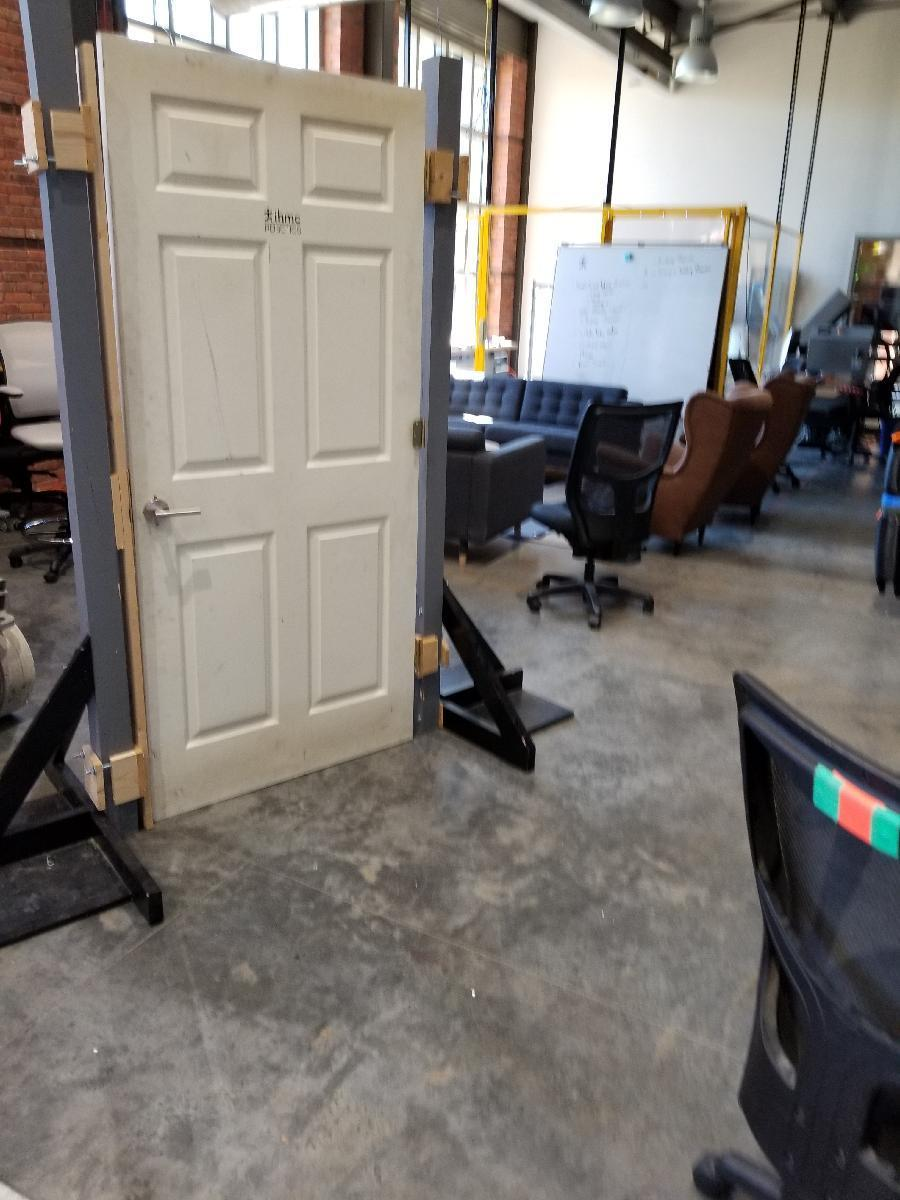door: (114, 38, 424, 777)
handle: (139, 495, 205, 527)
